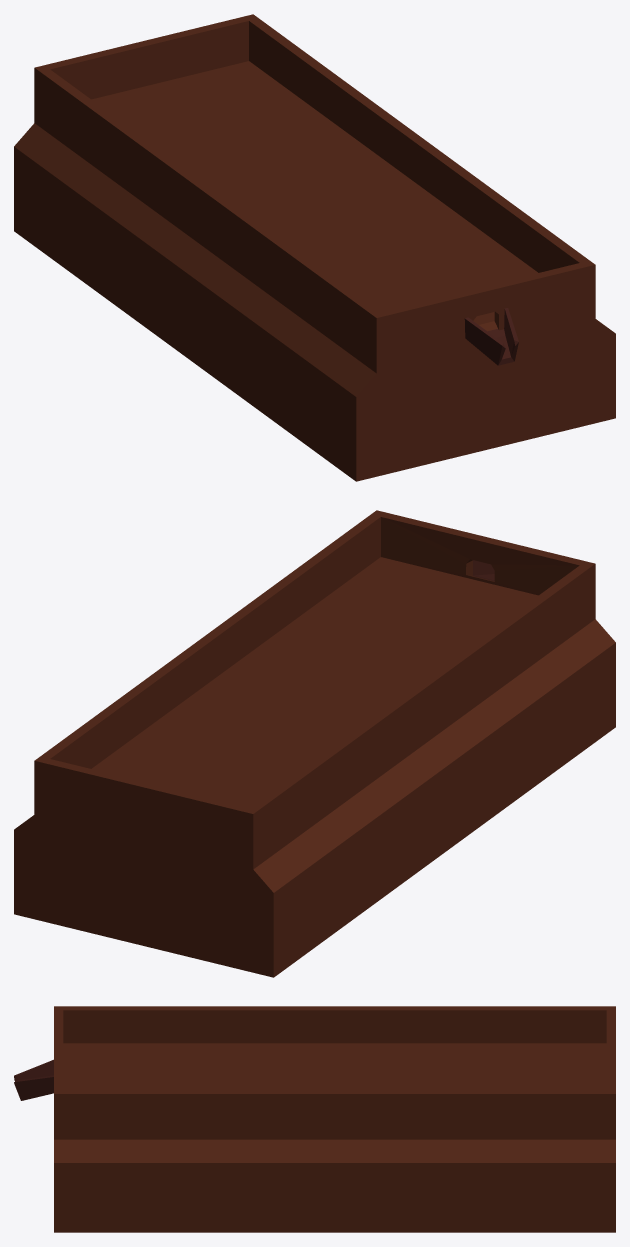
The model's file is Egytian_embalment.FBX.
The picture shows the model from 3 angles, top to bottom: view 1: azimuth 30°, elevation 25°; view 2: azimuth 150°, elevation 25°; view 3: azimuth 270°, elevation 25°; orthographic projection. The views are drawn at different scales.
Visible parts, largest first — view 1: Egyptian_embalment; view 2: Egyptian_embalment; view 3: Egyptian_embalment.
Boxes of the visible parts, x1=… form: Egyptian_embalment: x1=14, y1=14, x2=615, y2=481; Egyptian_embalment: x1=14, y1=510, x2=615, y2=977; Egyptian_embalment: x1=14, y1=1006, x2=615, y2=1232.
Bounding box in the file's own units: 149 × 86.65 × 363.
